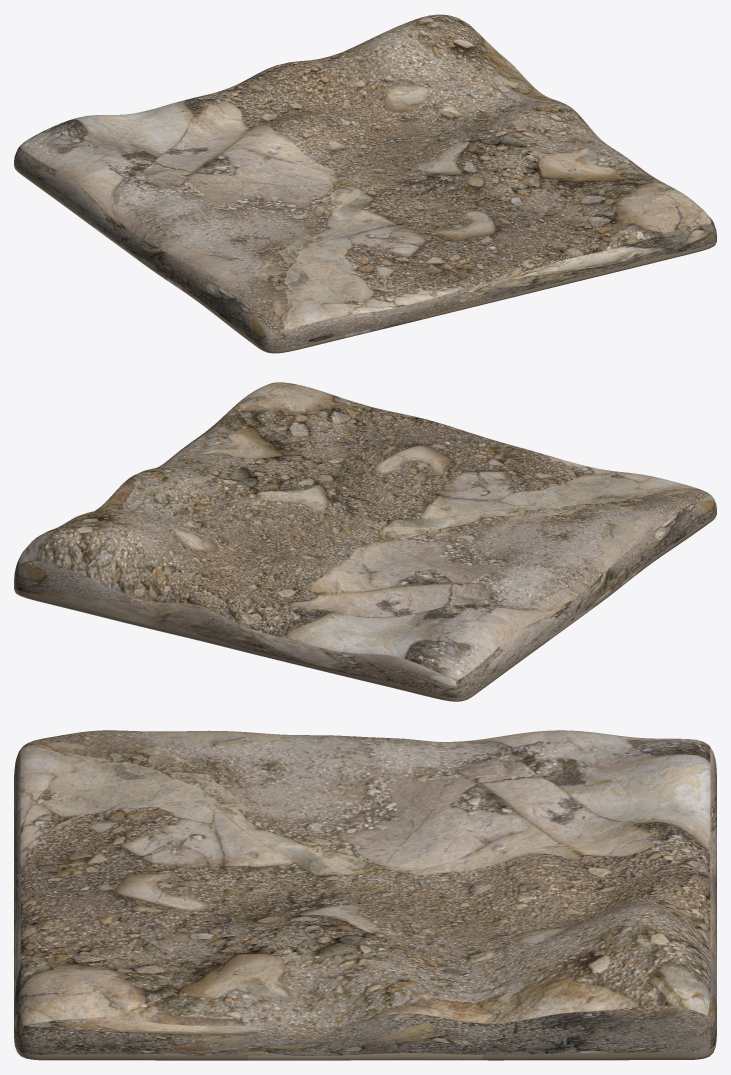
Rendered from terrain_lunar.gltf.
The picture shows the model from 3 angles, top to bottom: view 1: azimuth 30°, elevation 25°; view 2: azimuth 150°, elevation 25°; view 3: azimuth 270°, elevation 25°; orthographic projection. The views are drawn at different scales.
Parts seen in each view (by area): view 1: Plane; view 2: Plane; view 3: Plane.
Part boxes in pixels (left/top/right/bottom): Plane: left=14, top=14, right=716, bottom=353; Plane: left=14, top=382, right=716, bottom=701; Plane: left=14, top=730, right=716, bottom=1060.
Bounding box in the file's own units: 32.67 × 4.53 × 32.67.
Materials: 1 (1 with a texture image).
